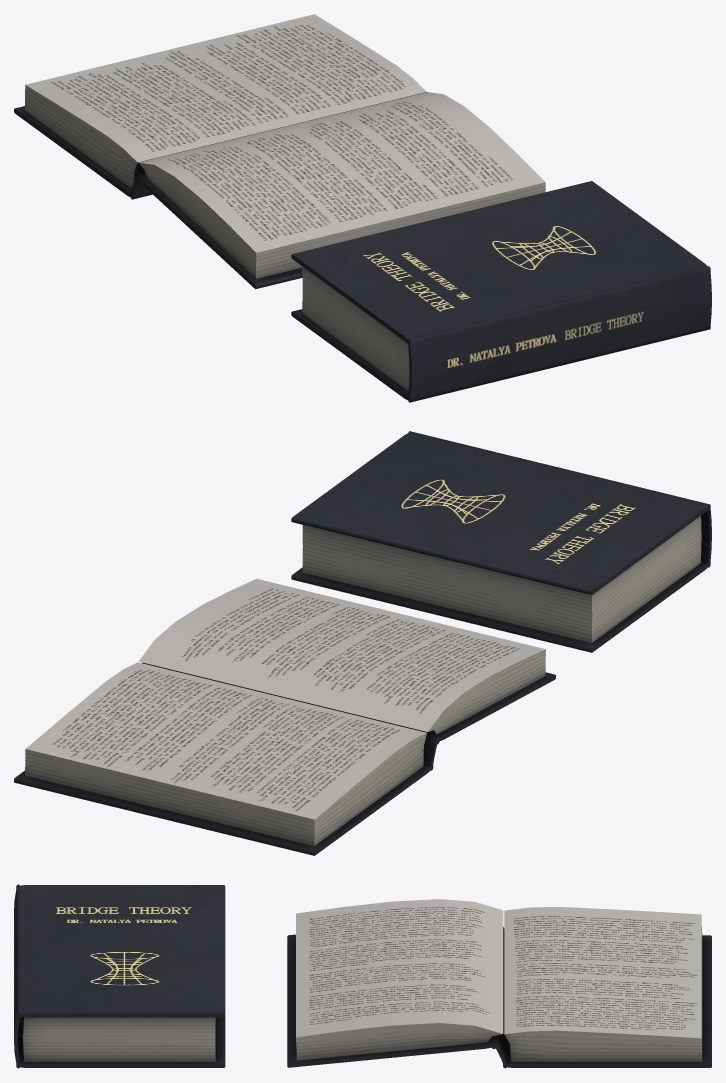
The model's file is book.obj.
3 renders of one model, top to bottom at view 1: azimuth 30°, elevation 25°; view 2: azimuth 150°, elevation 25°; view 3: azimuth 270°, elevation 25°, orthographic. The views are drawn at different scales.
Visible parts, largest first — view 1: book_a_open, book_a; view 2: book_a_open, book_a; view 3: book_a_open, book_a.
Boxes of the visible parts, bbox=[...] form: book_a_open: bbox=[14, 14, 545, 289]; book_a: bbox=[291, 181, 711, 402]; book_a_open: bbox=[14, 578, 555, 855]; book_a: bbox=[291, 431, 711, 652]; book_a_open: bbox=[287, 899, 711, 1068]; book_a: bbox=[14, 884, 225, 1068].
Bounding box in the file's own units: 20.1 × 4.06 × 46.14.
Materials: 2 (2 with a texture image).
